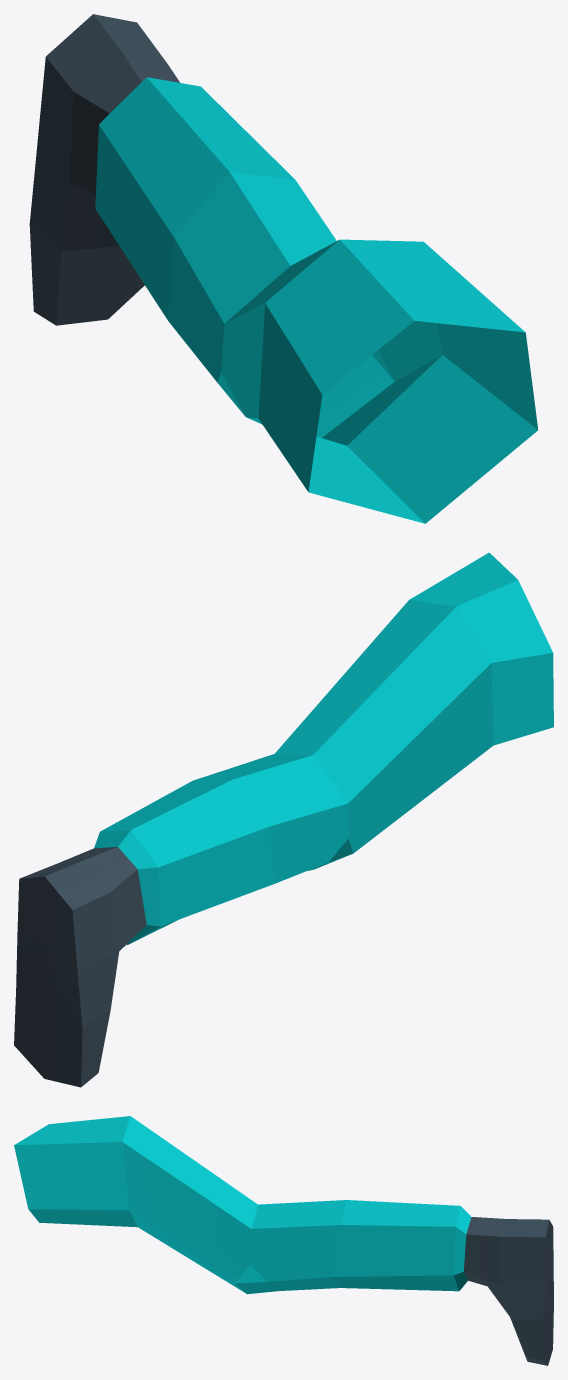
The model's file is 228_enemy_cop_001.gltf.
3 views of the same model, one above another, from view 1: azimuth 30°, elevation 25°; view 2: azimuth 150°, elevation 25°; view 3: azimuth 270°, elevation 25° (orthographic). The views are drawn at different scales.
Parts seen in each view (by area): view 1: enemy_cop_001; view 2: enemy_cop_001; view 3: enemy_cop_001.
Boxes of the visible parts, x1,y1,x2,y2 form: enemy_cop_001: (29,14,538,523); enemy_cop_001: (14,552,553,1087); enemy_cop_001: (14,1116,553,1365).
Size of the model in its own units: 0.5938 by 0.7659 by 1.81.
Materials: 1 (1 with a texture image).
